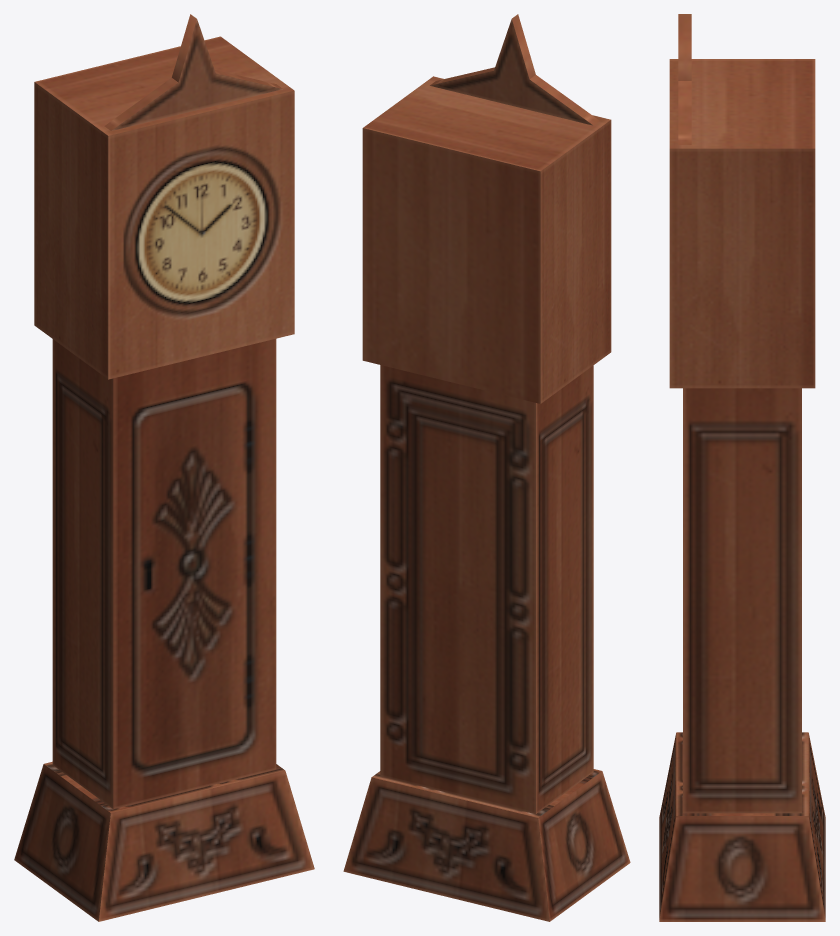
The model's file is Clock_2.fbx.
3 renders of one model, left to right at view 1: azimuth 30°, elevation 25°; view 2: azimuth 150°, elevation 25°; view 3: azimuth 270°, elevation 25°, orthographic. The views are drawn at different scales.
Visible parts, largest first — view 1: polySurface1527; view 2: polySurface1527; view 3: polySurface1527.
Part boxes in pixels (x1=…): polySurface1527: x1=14, y1=14, x2=314, y2=921; polySurface1527: x1=343, y1=14, x2=630, y2=921; polySurface1527: x1=659, y1=14, x2=825, y2=921.
Size of the model in its own units: 0.9283 by 3.57 by 0.6296.
